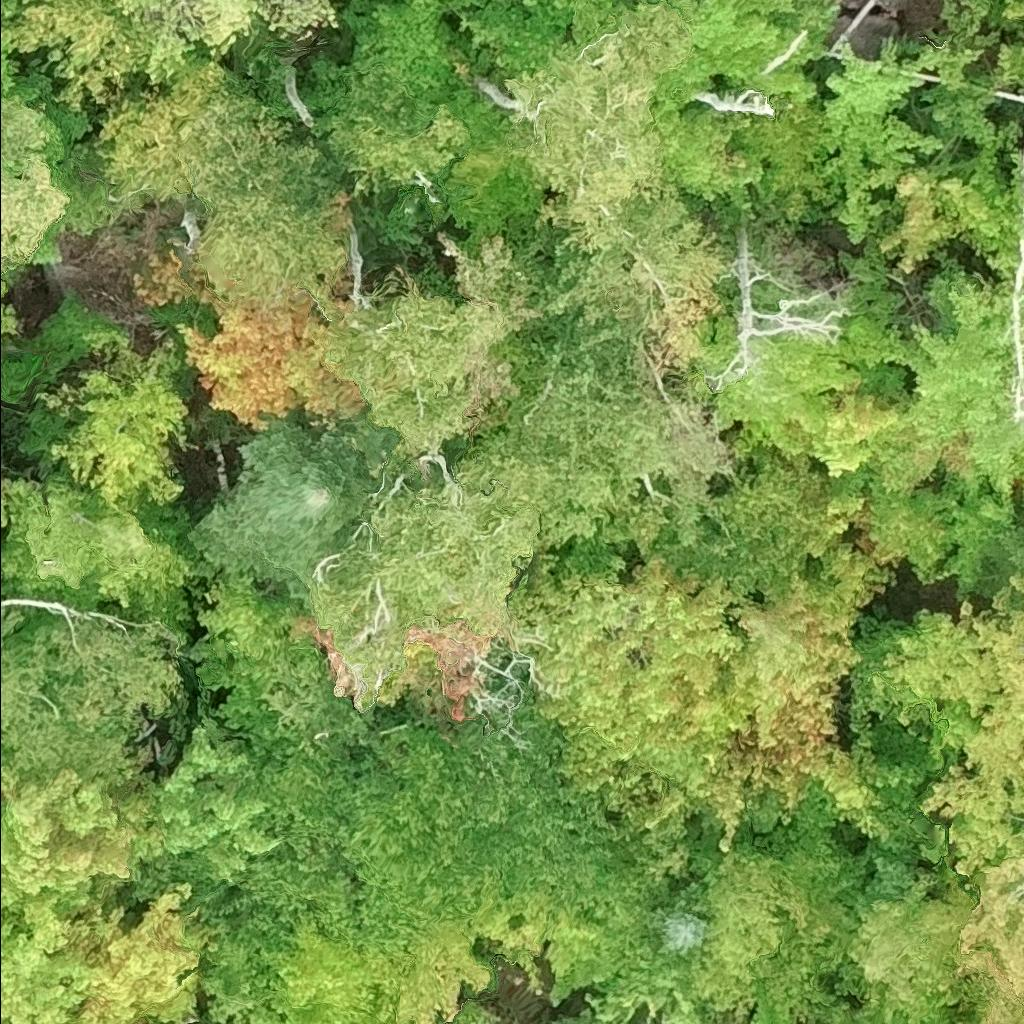crown: (532, 540, 893, 852), (229, 670, 616, 958), (875, 574, 1023, 1007), (0, 761, 204, 1023), (322, 232, 547, 454), (308, 486, 546, 685), (719, 235, 910, 480), (454, 354, 686, 552), (505, 0, 691, 237), (868, 249, 1023, 513), (186, 413, 397, 602), (1, 0, 348, 110), (471, 834, 673, 1006), (0, 607, 182, 797), (529, 194, 730, 366), (183, 93, 344, 305), (0, 469, 214, 622), (37, 319, 186, 509), (176, 288, 364, 430), (848, 874, 1023, 1023), (679, 847, 829, 1007), (817, 59, 941, 245), (282, 917, 497, 1023), (154, 720, 286, 885), (303, 0, 492, 113), (651, 0, 834, 116), (93, 60, 233, 201), (312, 71, 469, 193), (194, 576, 316, 731), (879, 152, 1012, 274), (0, 96, 72, 294), (657, 99, 768, 217), (923, 491, 1017, 599), (894, 0, 998, 91), (982, 149, 1023, 290), (976, 506, 1023, 603), (656, 895, 710, 954), (832, 985, 909, 1023), (0, 0, 22, 97), (552, 1003, 586, 1023), (924, 1008, 967, 1023), (999, 0, 1023, 23), (0, 493, 10, 541), (1019, 294, 1023, 308)
